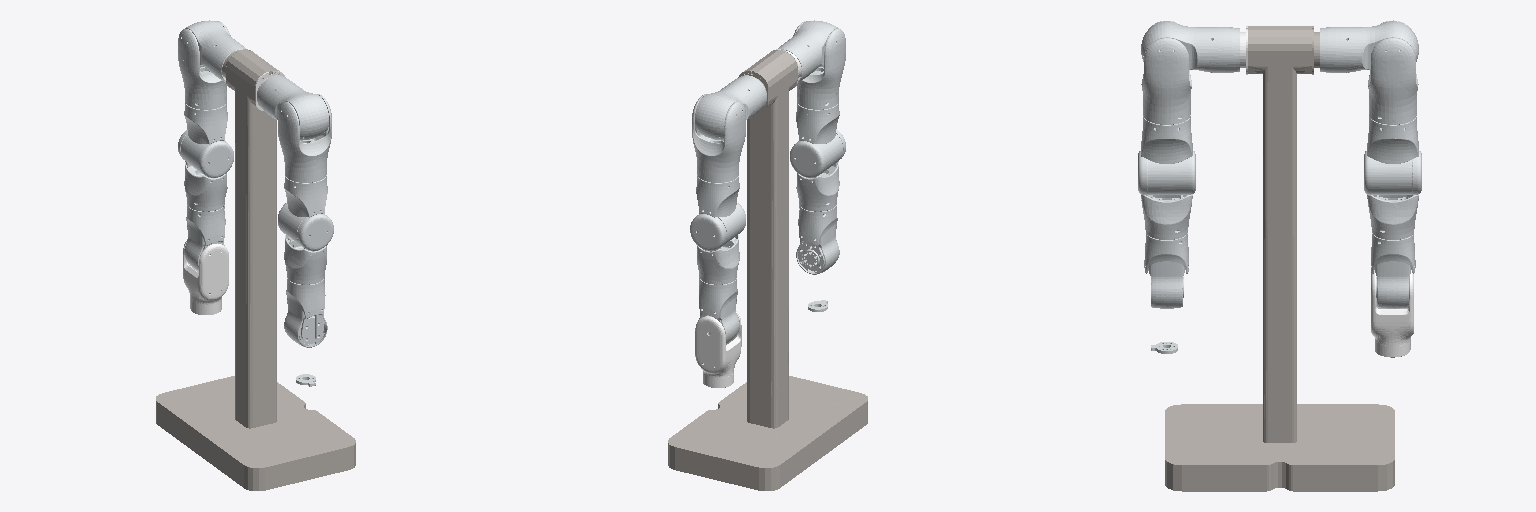
URDF robot description (A1_dual):
<?xml version="1.0" encoding="utf-8"?>
<!-- This URDF was automatically created by SolidWorks to URDF Exporter! Originally created by Stephen Brawner (brawner@gmail.com) 
     Commit Version: 1.6.0-4-g7f85cfe  Build Version: 1.6.7995.38578
     For more information, please see http://wiki.ros.org/sw_urdf_exporter -->
<robot
  name="A1_dual">
  <mujoco>
    <compiler meshdir="../../meshes/A1_dual/" balanceinertia="true" discardvisual="false" />
  </mujoco>

  <!-- Virtual root link for KDL compatibility -->
  <link name="world"/>

  <!-- Virtual root joint -->
  <joint name="world_to_base" type="fixed">
    <parent link="world"/>
    <child link="base_link"/>
    <origin xyz="0 0 0" rpy="0 0 0"/>
  </joint>

  <link
    name="base_link">
    <inertial>
      <origin
        xyz="0.0010220177563175 0.0098303072982387 0.183397090016791"
        rpy="0 0 0" />
      <mass
        value="64.4643570459224" />
      <inertia
        ixx="4.29797927001766"
        ixy="7.03998162475598E-07"
        ixz="-0.00276639447242792"
        iyy="3.97809452117849"
        iyz="-1.5197115178996E-07"
        izz="0.744626161704809" />
    </inertial>
    <visual>
      <origin
        xyz="0 0 0"
        rpy="0 0 0" />
      <geometry>
        <mesh
          filename="../../meshes/A1_dual/base_link.STL" />
      </geometry>
      <material
        name="">
        <color
          rgba="0.776470588235294 0.756862745098039 0.737254901960784 1" />
      </material>
    </visual>
    <collision>
      <origin
        xyz="0 0 0"
        rpy="0 0 0" />
      <geometry>
        <mesh
          filename="../../meshes/A1_dual/base_link.STL" />
      </geometry>
    </collision>
  </link>
  <link
    name="right_base_link">
    <inertial>
      <origin
        xyz="-2.13344287977907E-05 -5.52115991738867E-05 0.0171427944780142"
        rpy="0 0 0" />
      <mass
        value="0.401649629361067" />
      <inertia
        ixx="0.000237179582900665"
        ixy="-1.22282445342032E-07"
        ixz="-1.58190141064159E-07"
        iyy="0.000248235159238422"
        iyz="7.93479798945356E-07"
        izz="0.000305121782839553" />
    </inertial>
    <visual>
      <origin
        xyz="0 0 0"
        rpy="0 0 0" />
      <geometry>
        <mesh
          filename="../../meshes/A1_dual/Link_base_R.STL" />
      </geometry>
      <material
        name="">
        <color
          rgba="1 1 1 1" />
      </material>
    </visual>
    <collision>
      <origin
        xyz="0 0 0"
        rpy="0 0 0" />
      <geometry>
        <mesh
          filename="../../meshes/A1_dual/Link_base_R.STL" />
      </geometry>
    </collision>
  </link>
  <joint
    name="joint_base_R"
    type="fixed">
    <origin
      xyz="0.00129998788592377 -0.0461696962244978 0.786817651368381"
      rpy="1.5707963267949 -1.5707963267949 0" />
    <parent
      link="base_link" />
    <child
      link="right_base_link" />
    <axis
      xyz="0 0 0" />
  </joint>
  <link
    name="right_link1">
    <inertial>
      <origin
        xyz="0.000528701384746212 0.000691059523307229 0.0930148088752137"
        rpy="0 0 0" />
      <mass
        value="0.445123480651538" />
      <inertia
        ixx="0.000620269005945169"
        ixy="-1.7829181721352E-07"
        ixz="1.39375528170229E-07"
        iyy="0.000515290876046097"
        iyz="-3.68477334539704E-05"
        izz="0.00025747618201433" />
    </inertial>
    <visual>
      <origin
        xyz="0 0 0"
        rpy="0 0 0" />
      <geometry>
        <mesh
          filename="../../meshes/A1_dual/Link_R1.STL" />
      </geometry>
      <material
        name="">
        <color
          rgba="0.898039215686275 0.917647058823529 0.929411764705882 1" />
      </material>
    </visual>
    <collision>
      <origin
        xyz="0 0 0"
        rpy="0 0 0" />
      <geometry>
        <mesh
          filename="../../meshes/A1_dual/Link_R1.STL" />
      </geometry>
    </collision>
  </link>
  <joint
    name="joint1-a1_r"
    type="revolute">
    <origin
      xyz="0 0 0.0125"
      rpy="0 0 0" />
    <parent
      link="right_base_link" />
    <child
      link="right_link1" />
    <axis
      xyz="0 0 1" />
    <limit
      lower="-1.04"
      upper="3.14"
      effort="0"
      velocity="0" />
  </joint>
  <link
    name="right_link2">
    <inertial>
      <origin
        xyz="-4.79251882686271E-05 -0.0610748205842253 0.00491189316430291"
        rpy="0 0 0" />
      <mass
        value="0.387804299075862" />
      <inertia
        ixx="0.000597196184278382"
        ixy="-8.33624572900867E-07"
        ixz="1.418887040585E-08"
        iyy="0.000348285614510568"
        iyz="-2.93681671030129E-05"
        izz="0.000403678012606387" />
    </inertial>
    <visual>
      <origin
        xyz="0 0 0"
        rpy="0 0 0" />
      <geometry>
        <mesh
          filename="../../meshes/A1_dual/Link_R2.STL" />
      </geometry>
      <material
        name="">
        <color
          rgba="0.898039215686275 0.917647058823529 0.929411764705882 1" />
      </material>
    </visual>
    <collision>
      <origin
        xyz="0 0 0"
        rpy="0 0 0" />
      <geometry>
        <mesh
          filename="../../meshes/A1_dual/Link_R2.STL" />
      </geometry>
    </collision>
  </link>
  <joint
    name="joint2-a1_r"
    type="revolute">
    <origin
      xyz="0 0 0.12744999999996"
      rpy="1.57079632679508 1.5707963267949 0" />
    <parent
      link="right_link1" />
    <child
      link="right_link2" />
    <axis
      xyz="0 0 1" />
    <limit
      lower="-3.14"
      upper="0.26"
      effort="0"
      velocity="0" />
  </joint>
  <link
    name="right_link3">
    <inertial>
      <origin
        xyz="-1.41791339719967E-05 -0.00178417845474385 0.109669668671437"
        rpy="0 0 0" />
      <mass
        value="0.407125793860475" />
      <inertia
        ixx="0.000446520666223513"
        ixy="-1.52102569119989E-08"
        ixz="-1.60234361204651E-07"
        iyy="0.000343044759489895"
        iyz="1.30123273479532E-05"
        izz="0.000286204871786059" />
    </inertial>
    <visual>
      <origin
        xyz="0 0 0"
        rpy="0 0 0" />
      <geometry>
        <mesh
          filename="../../meshes/A1_dual/Link_R3.STL" />
      </geometry>
      <material
        name="">
        <color
          rgba="0.898039215686275 0.917647058823529 0.929411764705882 1" />
      </material>
    </visual>
    <collision>
      <origin
        xyz="0 0 0"
        rpy="0 0 0" />
      <geometry>
        <mesh
          filename="../../meshes/A1_dual/Link_R3.STL" />
      </geometry>
    </collision>
  </link>
  <joint
    name="joint3-a1_r"
    type="revolute">
    <origin
      xyz="0 -0.0932500000000608 0"
      rpy="1.57079632679489 -1.5707963267949 0" />
    <parent
      link="right_link2" />
    <child
      link="right_link3" />
    <axis
      xyz="0 0 1" />
    <limit
      lower="-2.76"
      upper="2.76"
      effort="0"
      velocity="0" />
  </joint>
  <link
    name="right_link4">
    <inertial>
      <origin
        xyz="4.77747493508683E-07 -0.0625047132426329 0.00555704355217515"
        rpy="0 0 0" />
      <mass
        value="0.252142897287996" />
      <inertia
        ixx="0.000178779070302145"
        ixy="-6.97347608629508E-09"
        ixz="7.78466981652122E-10"
        iyy="0.000146134678627411"
        iyz="-3.30147349555166E-05"
        izz="0.000165597697715162" />
    </inertial>
    <visual>
      <origin
        xyz="0 0 0"
        rpy="0 0 0" />
      <geometry>
        <mesh
          filename="../../meshes/A1_dual/Link_R4.STL" />
      </geometry>
      <material
        name="">
        <color
          rgba="0.898039215686275 0.917647058823529 0.929411764705882 1" />
      </material>
    </visual>
    <collision>
      <origin
        xyz="0 0 0"
        rpy="0 0 0" />
      <geometry>
        <mesh
          filename="../../meshes/A1_dual/Link_R4.STL" />
      </geometry>
    </collision>
  </link>
  <joint
    name="joint4-a1_r"
    type="revolute">
    <origin
      xyz="0 0.000999999998782225 0.140250000000101"
      rpy="-1.5707963267895 0 0" />
    <parent
      link="right_link3" />
    <child
      link="right_link4" />
    <axis
      xyz="0 0 1" />
    <limit
      lower="-1.92"
      upper="1.92"
      effort="0"
      velocity="0" />
  </joint>
  <link
    name="right_link5">
    <inertial>
      <origin
        xyz="-2.15115908300036E-06 -0.000940016433332608 0.0983077058854084"
        rpy="0 0 0" />
      <mass
        value="0.333954018530655" />
      <inertia
        ixx="0.000324220055891183"
        ixy="-1.16857830776577E-09"
        ixz="7.2095952729132E-08"
        iyy="0.00029907861347288"
        iyz="-5.79215640631209E-06"
        izz="0.00016124141970014" />
    </inertial>
    <visual>
      <origin
        xyz="0 0 0"
        rpy="0 0 0" />
      <geometry>
        <mesh
          filename="../../meshes/A1_dual/Link_R5.STL" />
      </geometry>
      <material
        name="">
        <color
          rgba="0.898039215686275 0.917647058823529 0.929411764705882 1" />
      </material>
    </visual>
    <collision>
      <origin
        xyz="0 0 0"
        rpy="0 0 0" />
      <geometry>
        <mesh
          filename="../../meshes/A1_dual/Link_R5.STL" />
      </geometry>
    </collision>
  </link>
  <joint
    name="joint5-a1_r"
    type="revolute">
    <origin
      xyz="0 -0.0879999999845006 -0.000999999994519968"
      rpy="1.57079632680022 0 0" />
    <parent
      link="right_link4" />
    <child
      link="right_link5" />
    <axis
      xyz="0 0 1" />
    <limit
      lower="-2.23"
      upper="2.23"
      effort="0"
      velocity="0" />
  </joint>
  <link
    name="right_link6">
    <inertial>
      <origin
        xyz="1.41062096566495E-05 0.0616500031920713 0.00517126125253364"
        rpy="0 0 0" />
      <mass
        value="0.289938829856114" />
      <inertia
        ixx="0.00034657832636577"
        ixy="-3.69437698963052E-07"
        ixz="-1.71696816370923E-07"
        iyy="0.000183154986527696"
        iyz="3.25615224510484E-05"
        izz="0.000268358656569823" />
    </inertial>
    <visual>
      <origin
        xyz="0 0 0"
        rpy="0 0 0" />
      <geometry>
        <mesh
          filename="../../meshes/A1_dual/Link_R6.STL" />
      </geometry>
      <material
        name="">
        <color
          rgba="1 1 1 1" />
      </material>
    </visual>
    <collision>
      <origin
        xyz="0 0 0"
        rpy="0 0 0" />
      <geometry>
        <mesh
          filename="../../meshes/A1_dual/Link_R6.STL" />
      </geometry>
    </collision>
  </link>
  <joint
    name="joint6-a1_r"
    type="revolute">
    <origin
      xyz="0 -0.000500000006067092 0.13300000000003"
      rpy="1.57079632679516 0 0" />
    <parent
      link="right_link5" />
    <child
      link="right_link6" />
    <axis
      xyz="0 0 1" />
    <limit
      lower="-1.57"
      upper="1.57"
      effort="0"
      velocity="0" />
  </joint>
  <link
    name="right_link7">
    <inertial>
      <origin
        xyz="5.62946092910809E-10 -0.00220209359026055 0.00293052216882428"
        rpy="0 0 0" />
      <mass
        value="0.0177506427123713" />
      <inertia
        ixx="2.81905933094716E-06"
        ixy="5.7641533455085E-14"
        ixz="-2.02460067044014E-14"
        iyy="1.8945343219885E-06"
        iyz="2.22911768335107E-09"
        izz="4.6099418954554E-06" />
    </inertial>
    <visual>
      <origin
        xyz="0 0 0"
        rpy="0 0 0" />
      <geometry>
        <mesh
          filename="../../meshes/A1_dual/Link_R7.STL" />
      </geometry>
      <material
        name="">
        <color
          rgba="0.898039215686275 0.917647058823529 0.929411764705882 1" />
      </material>
    </visual>
    <collision>
      <origin
        xyz="0 0 0"
        rpy="0 0 0" />
      <geometry>
        <mesh
          filename="../../meshes/A1_dual/Link_R7.STL" />
      </geometry>
    </collision>
  </link>
  <joint
    name="joint7-a1_r"
    type="revolute">
    <origin
      xyz="0 0.111999999999958 -0.000500000000028034"
      rpy="1.5708 0 3.1416" />
    <parent
      link="right_link6" />
    <child
      link="right_link7" />
    <axis
      xyz="0 1 0" />
    <limit
      lower="-2.76"
      upper="2.76"
      effort="0"
      velocity="0" />
  </joint>
  <link
    name="left_base_link">
    <inertial>
      <origin
        xyz="-2.12826196715591E-05 5.52026218803445E-05 0.0171427754448579"
        rpy="0 0 0" />
      <mass
        value="0.401650168942009" />
      <inertia
        ixx="0.000237179758518644"
        ixy="1.22424408205499E-07"
        ixz="-1.57836402935085E-07"
        iyy="0.00024823611761246"
        iyz="-7.93541349372777E-07"
        izz="0.000305122605170233" />
    </inertial>
    <visual>
      <origin
        xyz="0 0 0"
        rpy="3.14159265358979 0 0" />
      <geometry>
        <mesh
          filename="../../meshes/A1_dual/Link_base_L.STL" />
      </geometry>
      <material
        name="">
        <color
          rgba="0.776470588235294 0.756862745098039 0.737254901960784 1" />
      </material>
    </visual>
    <collision>
      <origin
        xyz="0 0 0"
        rpy="3.14159265358979 0 0" />
      <geometry>
        <mesh
          filename="../../meshes/A1_dual/Link_base_L.STL" />
      </geometry>
    </collision>
  </link>
  <joint
    name="joint_base_l"
    type="fixed">
    <origin
      xyz="0.00129998788593704 0.0658303037755022 0.786817651368357"
      rpy="1.57079632679502 -1.5707963267949 0" />
    <parent
      link="base_link" />
    <child
      link="left_base_link" />
    <axis
      xyz="0 0 0" />
  </joint>
  <link
    name="left_link1">
    <inertial>
      <origin
        xyz="0.000104793909039569 -0.000878025489583305 0.0937688680157419"
        rpy="0 0 0" />
      <mass
        value="0.438675872181416" />
      <inertia
        ixx="0.00060517294321352"
        ixy="3.14143376862722E-07"
        ixz="-9.46425739217288E-07"
        iyy="0.000501491467720591"
        iyz="3.30016145254686E-05"
        izz="0.00025580993277449" />
    </inertial>
    <visual>
      <origin
        xyz="0 0 0"
        rpy="0 0 0" />
      <geometry>
        <mesh
          filename="../../meshes/A1_dual/Link_L1.STL" />
      </geometry>
      <material
        name="">
        <color
          rgba="0.898039215686275 0.917647058823529 0.929411764705882 1" />
      </material>
    </visual>
    <collision>
      <origin
        xyz="0 0 0"
        rpy="0 0 0" />
      <geometry>
        <mesh
          filename="../../meshes/A1_dual/Link_L1.STL" />
      </geometry>
    </collision>
  </link>
  <joint
    name="joint1-a1_l"
    type="revolute">
    <origin
      xyz="0 0 -0.01250000000001"
      rpy="3.14159265358979 0 0" />
    <parent
      link="left_base_link" />
    <child
      link="left_link1" />
    <axis
      xyz="0 0 1" />
    <limit
      lower="-3.14"
      upper="1.04"
      effort="0"
      velocity="0" />
  </joint>
  <link
    name="left_link2">
    <inertial>
      <origin
        xyz="-4.66303482248853E-05 0.0610765811025605 0.00481122218899703"
        rpy="0 0 0" />
      <mass
        value="0.387770755219132" />
      <inertia
        ixx="0.000597204372907025"
        ixy="8.3676342009039E-07"
        ixz="2.69873967537206E-08"
        iyy="0.000348292487571024"
        iyz="2.93717934653094E-05"
        izz="0.000403661570691348" />
    </inertial>
    <visual>
      <origin
        xyz="0 0 0"
        rpy="0 0 -3.14159265358979" />
      <geometry>
        <mesh
          filename="../../meshes/A1_dual/Link_L2.STL" />
      </geometry>
      <material
        name="">
        <color
          rgba="0.898039215686275 0.917647058823529 0.929411764705882 1" />
      </material>
    </visual>
    <collision>
      <origin
        xyz="0 0 0"
        rpy="0 0 -3.14159265358979" />
      <geometry>
        <mesh
          filename="../../meshes/A1_dual/Link_L2.STL" />
      </geometry>
    </collision>
  </link>
  <joint
    name="joint2-a1_l"
    type="revolute">
    <origin
      xyz="0 0 0.12744999999999"
      rpy="-1.57079632679478 -1.5707963267949 0" />
    <parent
      link="left_link1" />
    <child
      link="left_link2" />
    <axis
      xyz="0 0 1" />
    <limit
      lower="-0.26"
      upper="3.14"
      effort="0"
      velocity="0" />
  </joint>
  <link
    name="left_link3">
    <inertial>
      <origin
        xyz="1.43987309591519E-05 0.00178404133280444 0.109669668659996"
        rpy="0 0 0" />
      <mass
        value="0.407125793506889" />
      <inertia
        ixx="0.000446520666780017"
        ixy="-8.24275545731688E-09"
        ixz="1.61110520939149E-07"
        iyy="0.000343044757246363"
        iyz="-1.30123176926368E-05"
        izz="0.000286204871222088" />
    </inertial>
    <visual>
      <origin
        xyz="0 0 0"
        rpy="0 0 0" />
      <geometry>
        <mesh
          filename="../../meshes/A1_dual/Link_L3.STL" />
      </geometry>
      <material
        name="">
        <color
          rgba="0.898039215686275 0.917647058823529 0.929411764705882 1" />
      </material>
    </visual>
    <collision>
      <origin
        xyz="0 0 0"
        rpy="0 0 0" />
      <geometry>
        <mesh
          filename="../../meshes/A1_dual/Link_L3.STL" />
      </geometry>
    </collision>
  </link>
  <joint
    name="joint3-a1_l"
    type="revolute">
    <origin
      xyz="0 -0.0932499999999344 -0.000100000000084434"
      rpy="1.5707963267949 -1.5707963267949 0" />
    <parent
      link="left_link2" />
    <child
      link="left_link3" />
    <axis
      xyz="0 0 1" />
    <limit
      lower="-2.76"
      upper="2.76"
      effort="0"
      velocity="0" />
  </joint>
  <link
    name="left_link4">
    <inertial>
      <origin
        xyz="-9.99808131922229E-07 0.0625047132640995 0.00555704355349795"
        rpy="0 0 0" />
      <mass
        value="0.252142897202372" />
      <inertia
        ixx="0.000178779070280237"
        ixy="-6.97346977235617E-09"
        ixz="-7.78451594084039E-10"
        iyy="0.000146134678616042"
        iyz="3.30147349592292E-05"
        izz="0.000165597697680657" />
    </inertial>
    <visual>
      <origin
        xyz="0 0 0"
        rpy="0 0 0" />
      <geometry>
        <mesh
          filename="../../meshes/A1_dual/Link_L4.STL" />
      </geometry>
      <material
        name="">
        <color
          rgba="0.898039215686275 0.917647058823529 0.929411764705882 1" />
      </material>
    </visual>
    <collision>
      <origin
        xyz="0 0 0"
        rpy="0 0 0" />
      <geometry>
        <mesh
          filename="../../meshes/A1_dual/Link_L4.STL" />
      </geometry>
    </collision>
  </link>
  <joint
    name="joint4-a1_l"
    type="revolute">
    <origin
      xyz="0 -0.000999999996676215 0.140249999995695"
      rpy="1.57079632678358 0 6.73358220455809E-05" />
    <parent
      link="left_link3" />
    <child
      link="left_link4" />
    <axis
      xyz="0 0 1" />
    <limit
      lower="-1.92"
      upper="1.92"
      effort="0"
      velocity="0" />
  </joint>
  <link
    name="left_link5">
    <inertial>
      <origin
        xyz="2.18196075730452E-06 0.000940045309240328 0.0983077176130554"
        rpy="0 0 0" />
      <mass
        value="0.333953527048094" />
      <inertia
        ixx="0.000324219442352689"
        ixy="-1.17918293650099E-09"
        ixz="-7.21118252753774E-08"
        iyy="0.000299078218859742"
        iyz="5.79241839852753E-06"
        izz="0.000161241194938864" />
    </inertial>
    <visual>
      <origin
        xyz="0 0 0"
        rpy="0 0 0" />
      <geometry>
        <mesh
          filename="../../meshes/A1_dual/Link_L5.STL" />
      </geometry>
      <material
        name="">
        <color
          rgba="0.898039215686275 0.917647058823529 0.929411764705882 1" />
      </material>
    </visual>
    <collision>
      <origin
        xyz="0 0 0"
        rpy="0 0 0" />
      <geometry>
        <mesh
          filename="../../meshes/A1_dual/Link_L5.STL" />
      </geometry>
    </collision>
  </link>
  <joint
    name="joint5-a1_l"
    type="revolute">
    <origin
      xyz="0 0.08800000000195 -0.00100000000141642"
      rpy="-1.57079632679444 0 0" />
    <parent
      link="left_link4" />
    <child
      link="left_link5" />
    <axis
      xyz="0 0 1" />
    <limit
      lower="-2.23"
      upper="2.23"
      effort="0"
      velocity="0" />
  </joint>
  <link
    name="left_link6">
    <inertial>
      <origin
        xyz="-1.41083577817339E-05 -0.0616500007995244 0.00592126579529165"
        rpy="0 0 0" />
      <mass
        value="0.289938784030602" />
      <inertia
        ixx="0.000346578289751858"
        ixy="-3.69413598783459E-07"
        ixz="1.71707544035286E-07"
        iyy="0.000183154957190632"
        iyz="-3.25615027135764E-05"
        izz="0.000268358636842125" />
    </inertial>
    <visual>
      <origin
        xyz="0 0 0"
        rpy="0 0 0" />
      <geometry>
        <mesh
          filename="../../meshes/A1_dual/Link_L6.STL" />
      </geometry>
      <material
        name="">
        <color
          rgba="1 1 1 1" />
      </material>
    </visual>
    <collision>
      <origin
        xyz="0 0 0"
        rpy="0 0 0" />
      <geometry>
        <mesh
          filename="../../meshes/A1_dual/Link_L6.STL" />
      </geometry>
    </collision>
  </link>
  <joint
    name="joint6-a1_l"
    type="revolute">
    <origin
      xyz="0 0.000499999999968581 0.133000000000029"
      rpy="-1.57079632679557 0 0" />
    <parent
      link="left_link5" />
    <child
      link="left_link6" />
    <axis
      xyz="0 0 1" />
    <limit
      lower="-1.57"
      upper="1.57"
      effort="0"
      velocity="0" />
  </joint>
  <link
    name="left_link7">
    <inertial>
      <origin
        xyz="6.65807920271653E-10 -0.00220208936547997 0.00293052049190778"
        rpy="0 0 0" />
      <mass
        value="0.017750642712371" />
      <inertia
        ixx="2.81905933094713E-06"
        ixy="5.7633025928465E-14"
        ixz="-2.02477989966484E-14"
        iyy="1.89453432186468E-06"
        iyz="2.22904228611338E-09"
        izz="4.60994189557911E-06" />
    </inertial>
    <visual>
      <origin
        xyz="0 0 0"
        rpy="0 0 0" />
      <geometry>
        <mesh
          filename="../../meshes/A1_dual/Link_L7.STL" />
      </geometry>
      <material
        name="">
        <color
          rgba="0.898039215686275 0.917647058823529 0.929411764705882 1" />
      </material>
    </visual>
    <collision>
      <origin
        xyz="0 0 0"
        rpy="0 0 0" />
      <geometry>
        <mesh
          filename="../../meshes/A1_dual/Link_L7.STL" />
      </geometry>
    </collision>
  </link>
  <joint
    name="joint7-a1_l"
    type="revolute">
    <origin
      xyz="0 -0.11200000000003 0.000249999999859224"
      rpy="1.5708 6.7336E-05 0" />
    <parent
      link="left_link6" />
    <child
      link="left_link7" />
    <axis
      xyz="0 0 1" />
    <limit
      lower="-2.76"
      upper="2.76"
      effort="0"
      velocity="0" />
  </joint>
</robot>

--- Facts derived from the render (not from the file) ---
Views: 3 orthographic renders of the robot side by side, from view 1: azimuth 30°, elevation 25°; view 2: azimuth 150°, elevation 25°; view 3: azimuth 270°, elevation 25°.
Robot: A1_dual — 18 links, 17 joints (14 revolute, 3 fixed); root link world; default pose: all joints at 0.
Visible links, largest first — view 1: base_link, left_link3, right_link2, right_link4, right_link1, left_link6, right_link5, left_link2, right_link3, left_link1, left_link5, left_link4; view 2: base_link, right_link3, left_link2, left_link4, left_link1, left_link6, right_link5, right_link2, left_link3, right_link1, left_link5, right_link4; view 3: base_link, left_link2, right_link2, left_link3, right_link3, right_link1, left_link1, right_link5, left_link5, right_link4, left_link4, left_link6.
Boxes of the visible links, x1,y1,x2,y2 form: base_link: (156, 50, 355, 490); left_link3: (181, 103, 233, 177); right_link2: (278, 94, 331, 182); right_link4: (284, 214, 333, 284); right_link1: (257, 75, 328, 140); left_link6: (183, 239, 228, 314); right_link5: (284, 278, 327, 347); left_link2: (178, 21, 230, 109); right_link3: (278, 175, 327, 244); left_link1: (185, 20, 245, 82); left_link5: (184, 205, 225, 270); left_link4: (178, 129, 227, 211); base_link: (668, 50, 867, 490); right_link3: (790, 103, 842, 177); left_link2: (692, 94, 745, 182); left_link4: (690, 214, 739, 284); left_link1: (695, 75, 766, 140); left_link6: (695, 311, 741, 387); right_link5: (796, 205, 839, 274); right_link2: (793, 21, 845, 109); left_link3: (696, 175, 745, 244); right_link1: (778, 20, 838, 82); left_link5: (699, 278, 739, 343); right_link4: (796, 129, 845, 211); base_link: (1165, 26, 1394, 491); left_link2: (1368, 20, 1418, 124); right_link2: (1141, 21, 1191, 124); left_link3: (1364, 116, 1418, 194); right_link3: (1141, 116, 1195, 194); right_link1: (1141, 21, 1239, 72); left_link1: (1320, 21, 1418, 72); right_link5: (1144, 233, 1188, 308); left_link5: (1371, 233, 1415, 308); right_link4: (1138, 151, 1192, 239); left_link4: (1367, 151, 1421, 239); left_link6: (1371, 270, 1413, 357).
Size in the robot's own frame: 0.25 by 0.4917 by 0.8308 metres.
16 mesh visuals loaded from 17 distinct referenced files (16 binary STL); not drawn: 1 (reference not matched to a file when rendering).
